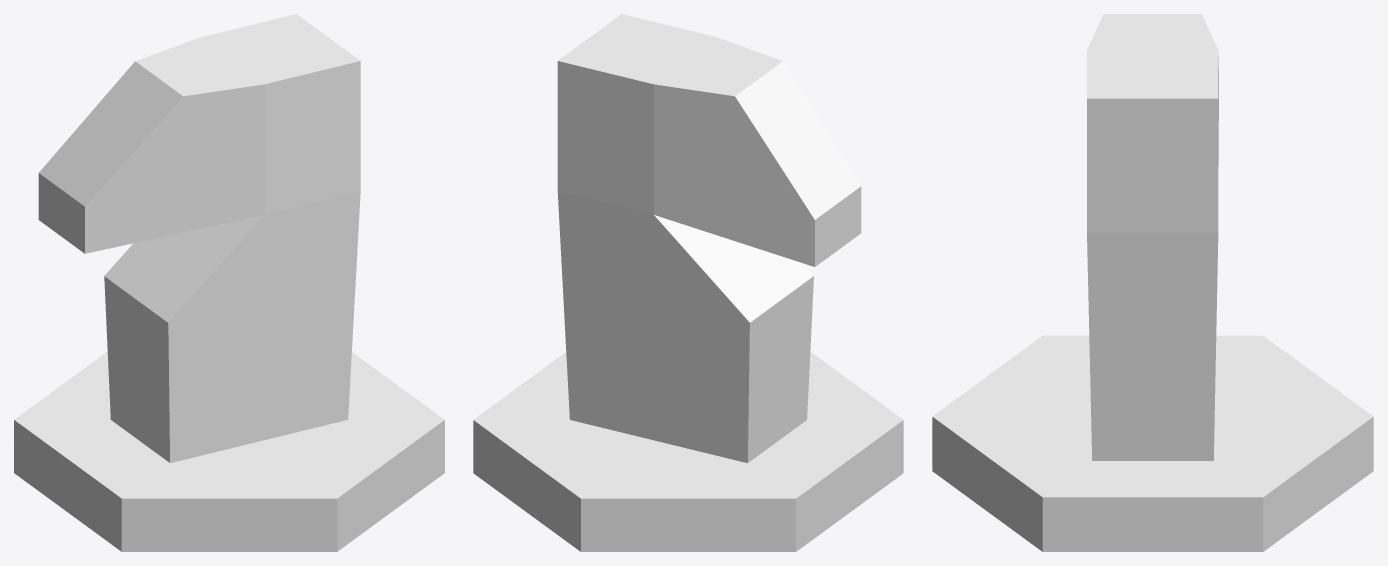
File: chesspieceknight01.gltf
3 renders of one model, left to right at view 1: azimuth 30°, elevation 25°; view 2: azimuth 150°, elevation 25°; view 3: azimuth 270°, elevation 25°, orthographic. The views are drawn at different scales.
Visible parts, largest first — view 1: Cylinder.002; view 2: Cylinder.002; view 3: Cylinder.002.
Part boxes in pixels (<box>): Cylinder.002: <box>14,14,444,551</box>; Cylinder.002: <box>473,14,903,551</box>; Cylinder.002: <box>932,14,1373,551</box>.
Size of the model in its own units: 0.0225 by 0.0274 by 0.026.
1 material, 1 textured.
